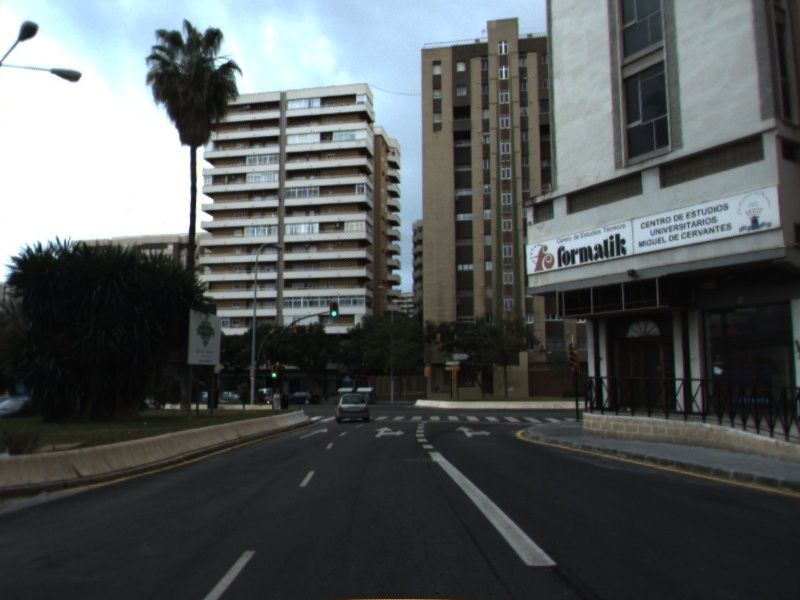STRAIGHT: (297, 426, 329, 441)
STRAIGHT_RIGHT: (453, 424, 494, 439), (372, 424, 407, 440)
